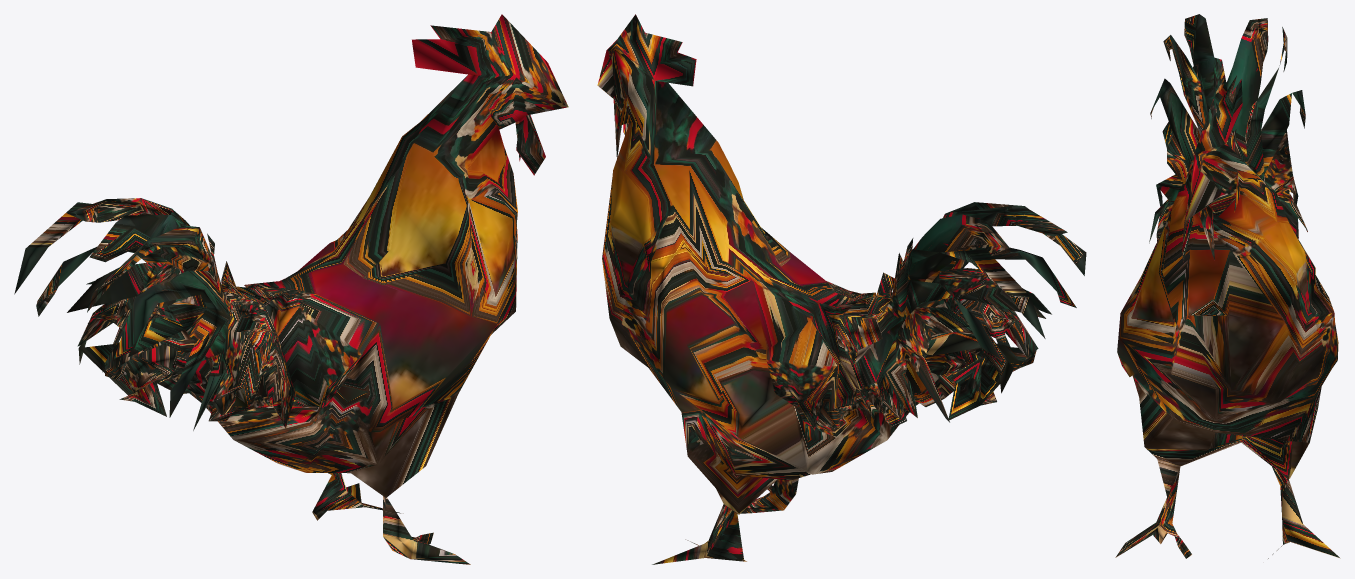
The model's file is a_rooster.glb.
3 renders of one model, left to right at view 1: azimuth 30°, elevation 25°; view 2: azimuth 150°, elevation 25°; view 3: azimuth 270°, elevation 25°, orthographic. The views are drawn at different scales.
Parts seen in each view (by area): view 1: tripo_node_2dbdfa6f-a11b-4abd-b38f-344ad27e6f45; view 2: tripo_node_2dbdfa6f-a11b-4abd-b38f-344ad27e6f45; view 3: tripo_node_2dbdfa6f-a11b-4abd-b38f-344ad27e6f45.
Part boxes in pixels (bbox=[...]): tripo_node_2dbdfa6f-a11b-4abd-b38f-344ad27e6f45: bbox=[14, 14, 568, 564]; tripo_node_2dbdfa6f-a11b-4abd-b38f-344ad27e6f45: bbox=[597, 14, 1086, 564]; tripo_node_2dbdfa6f-a11b-4abd-b38f-344ad27e6f45: bbox=[1115, 14, 1340, 558].
Bounding box in the file's own units: 0.9878 × 0.9326 × 0.3799.
1 material, 1 textured.
